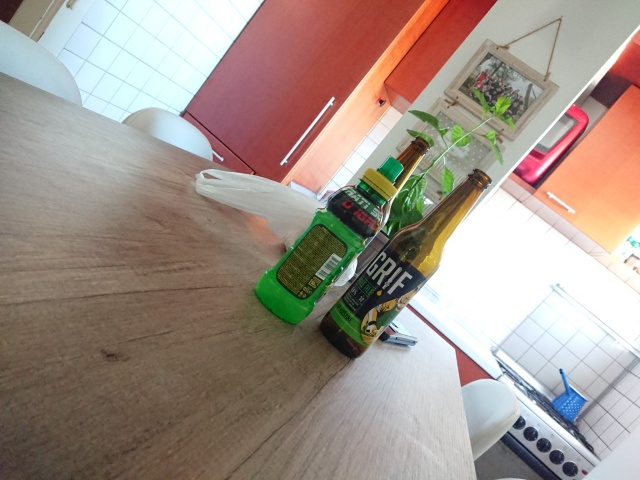Vindi Iso Sport Lemon-Grapefruit 500mL: (250, 154, 406, 328)
